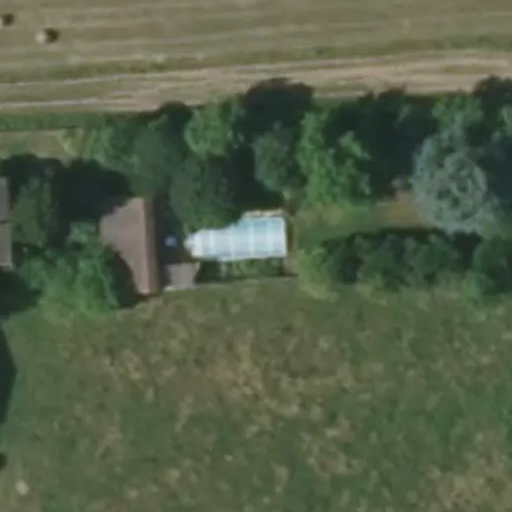pool: (213, 223, 298, 261)
